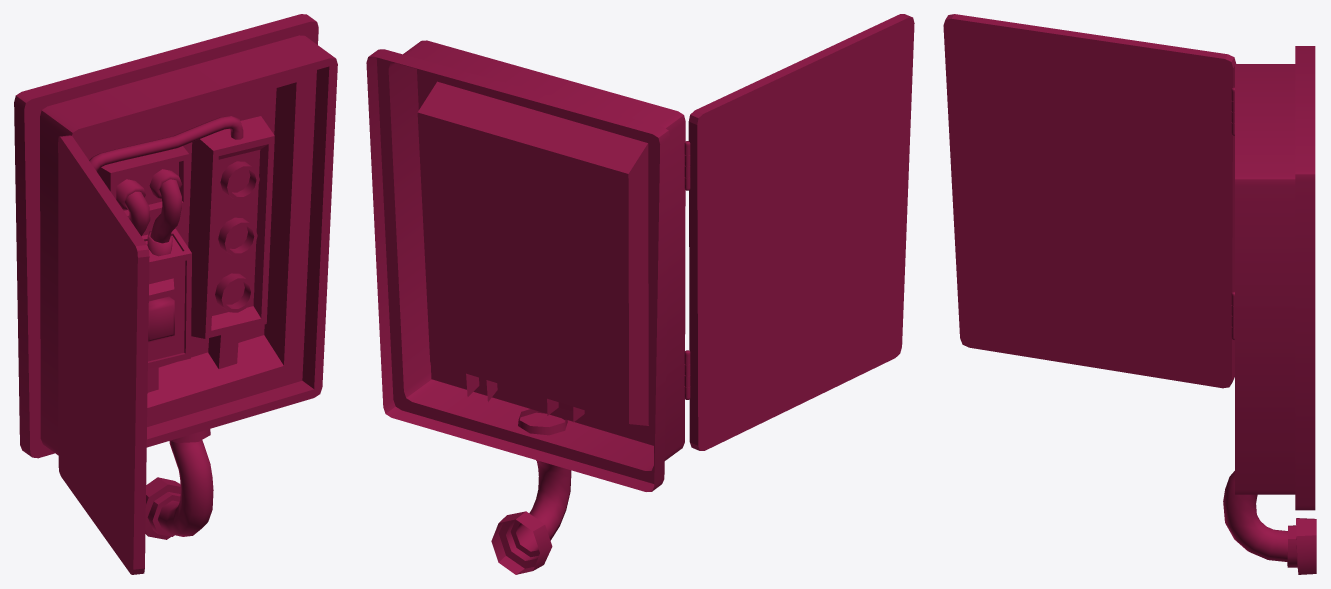
File: FuseBoxLowPolCOLLAPSED.fbx
3 renders of one model, left to right at view 1: azimuth 30°, elevation 25°; view 2: azimuth 150°, elevation 25°; view 3: azimuth 270°, elevation 25°, orthographic. The views are drawn at different scales.
Parts seen in each view (by area): view 1: FuseBox_l; view 2: FuseBox_l; view 3: FuseBox_l.
Boxes of the visible parts, x1,y1,x2,y2 form: FuseBox_l: (14,14,337,574); FuseBox_l: (366,14,914,574); FuseBox_l: (943,14,1316,574).
Size of the model in its own units: 1.19 by 1.53 by 1.1.
